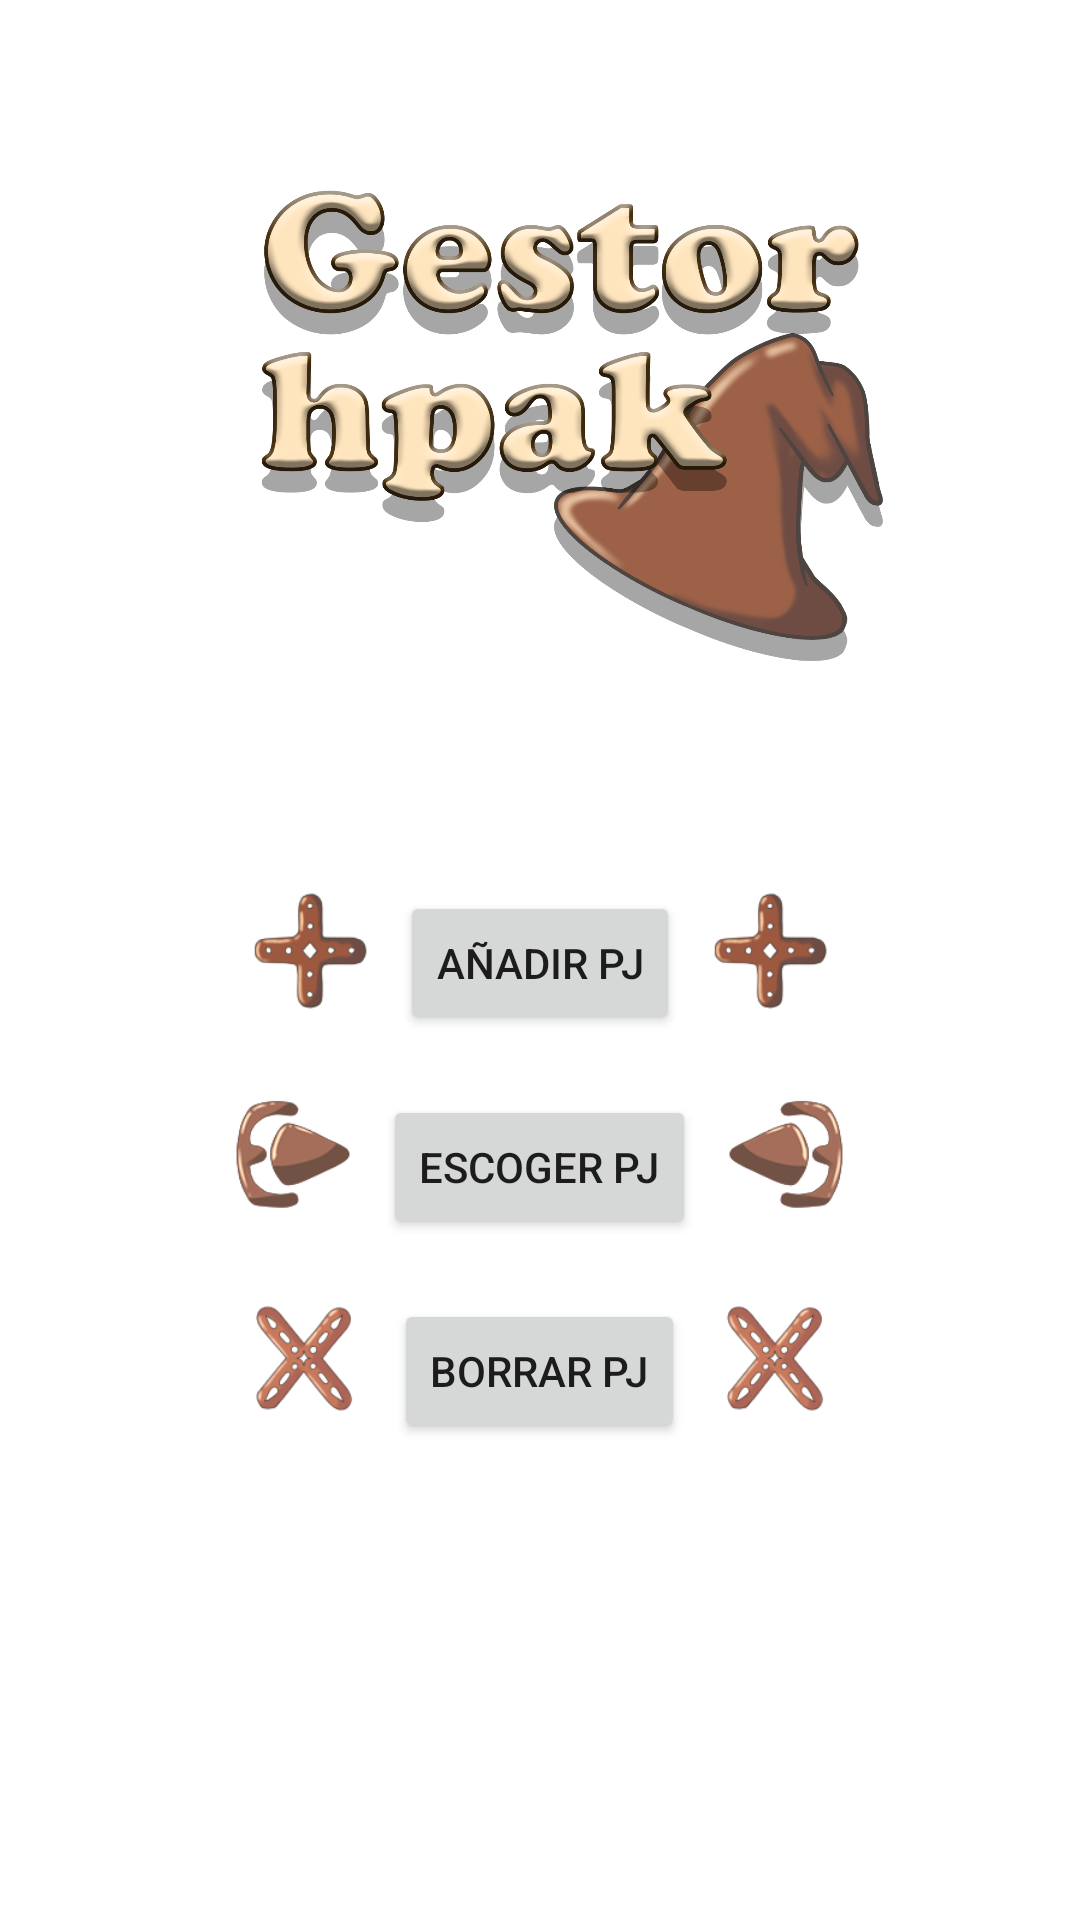

Locate icon controls on the screen. Image size 1080 × 1920, boxes as (x1, y1, x2, y2).
delete: (256, 1306, 352, 1411), (727, 1306, 823, 1411)
mas: (254, 893, 367, 1009), (714, 893, 827, 1009)
